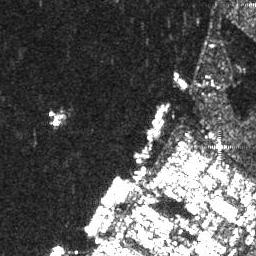ship: (83, 199, 108, 235), (99, 173, 125, 206), (148, 101, 171, 127), (134, 141, 155, 166), (171, 68, 189, 92)
